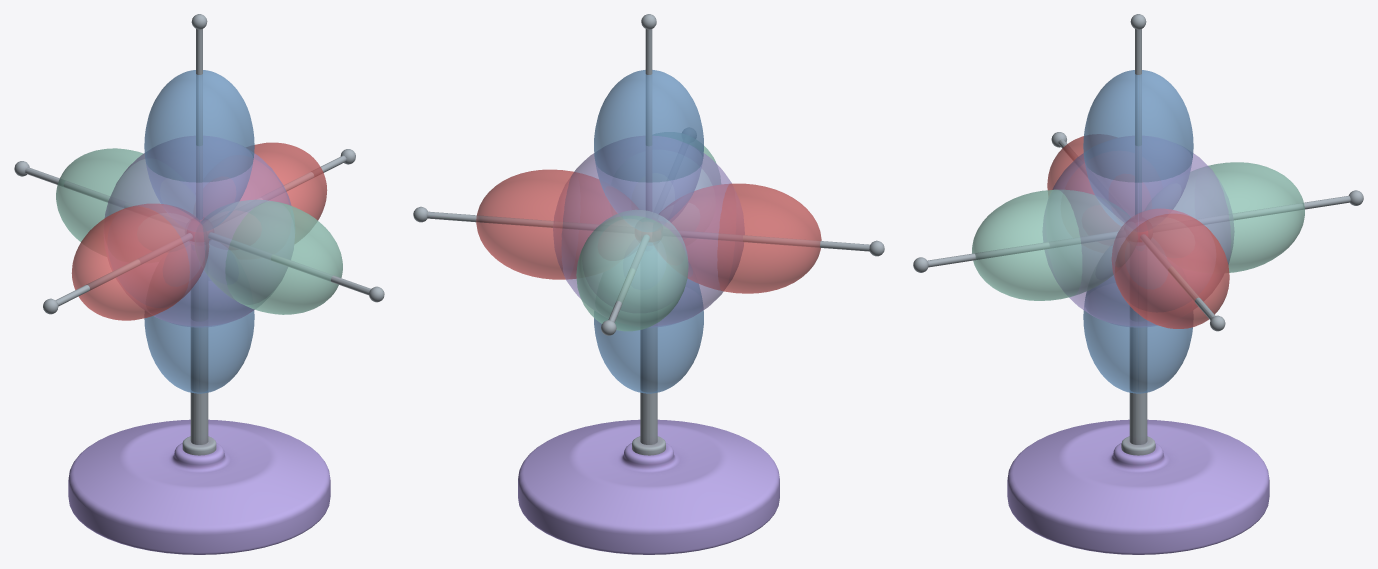
File: atomic-orbitals.glb
3 renders of one model, left to right at view 1: azimuth 30°, elevation 25°; view 2: azimuth 150°, elevation 25°; view 3: azimuth 270°, elevation 25°, orthographic.
Parts seen in each view (by area): view 1: atomic-orbitals_orbitals_glass, atomic-orbitals_body; view 2: atomic-orbitals_orbitals_glass, atomic-orbitals_body; view 3: atomic-orbitals_orbitals_glass, atomic-orbitals_body.
Boxes of the visible parts, x1,y1,x2,y2 form: atomic-orbitals_orbitals_glass: (56, 70, 342, 393); atomic-orbitals_body: (14, 14, 384, 554); atomic-orbitals_orbitals_glass: (476, 70, 821, 393); atomic-orbitals_body: (413, 14, 884, 554); atomic-orbitals_orbitals_glass: (972, 70, 1304, 393); atomic-orbitals_body: (913, 14, 1363, 554).
Bounding box in the file's own units: 0.2064 × 0.2456 × 0.2064.
Materials: 5 (1 with a texture image).
